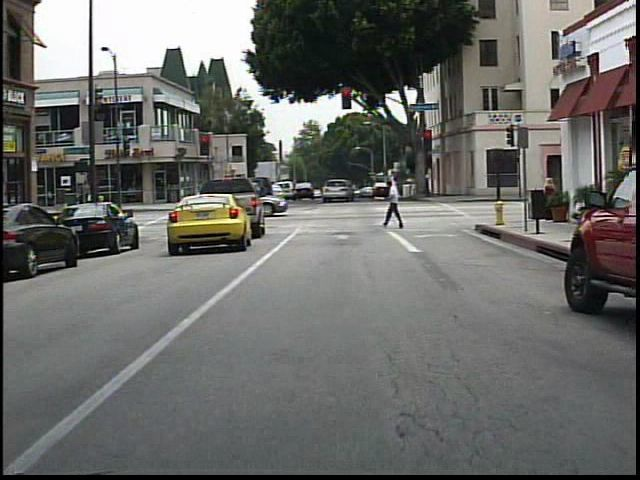person: (384, 179, 410, 231), (538, 174, 563, 225)
